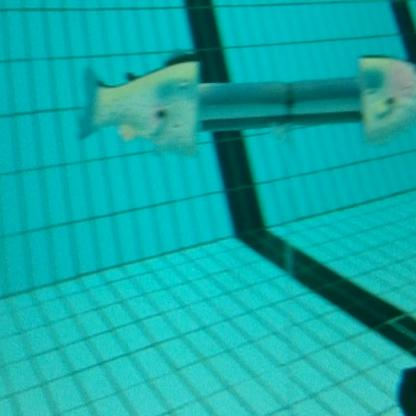tail: (76, 51, 201, 162)
